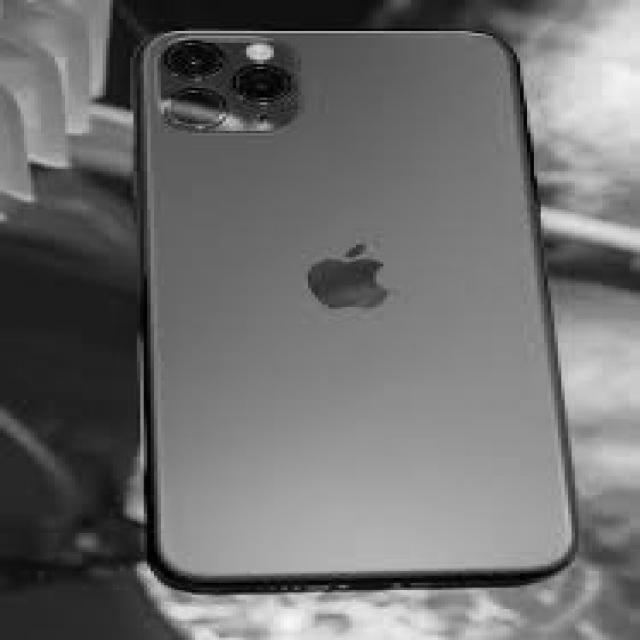fake: (133, 22, 580, 588)
